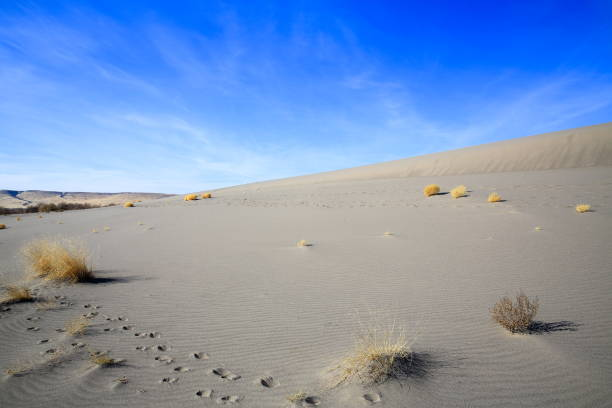human_footprint: (212, 367, 240, 379), (111, 376, 128, 389), (259, 376, 278, 387), (215, 395, 241, 403), (363, 392, 381, 403), (189, 352, 210, 360), (303, 396, 320, 405), (154, 355, 173, 363), (196, 389, 213, 397), (134, 332, 160, 337), (160, 377, 178, 383), (173, 366, 190, 372), (135, 345, 154, 350), (155, 345, 169, 351), (26, 326, 39, 331), (37, 339, 48, 343)
